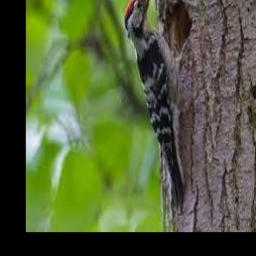Woodpecker: (125, 0, 192, 212)
